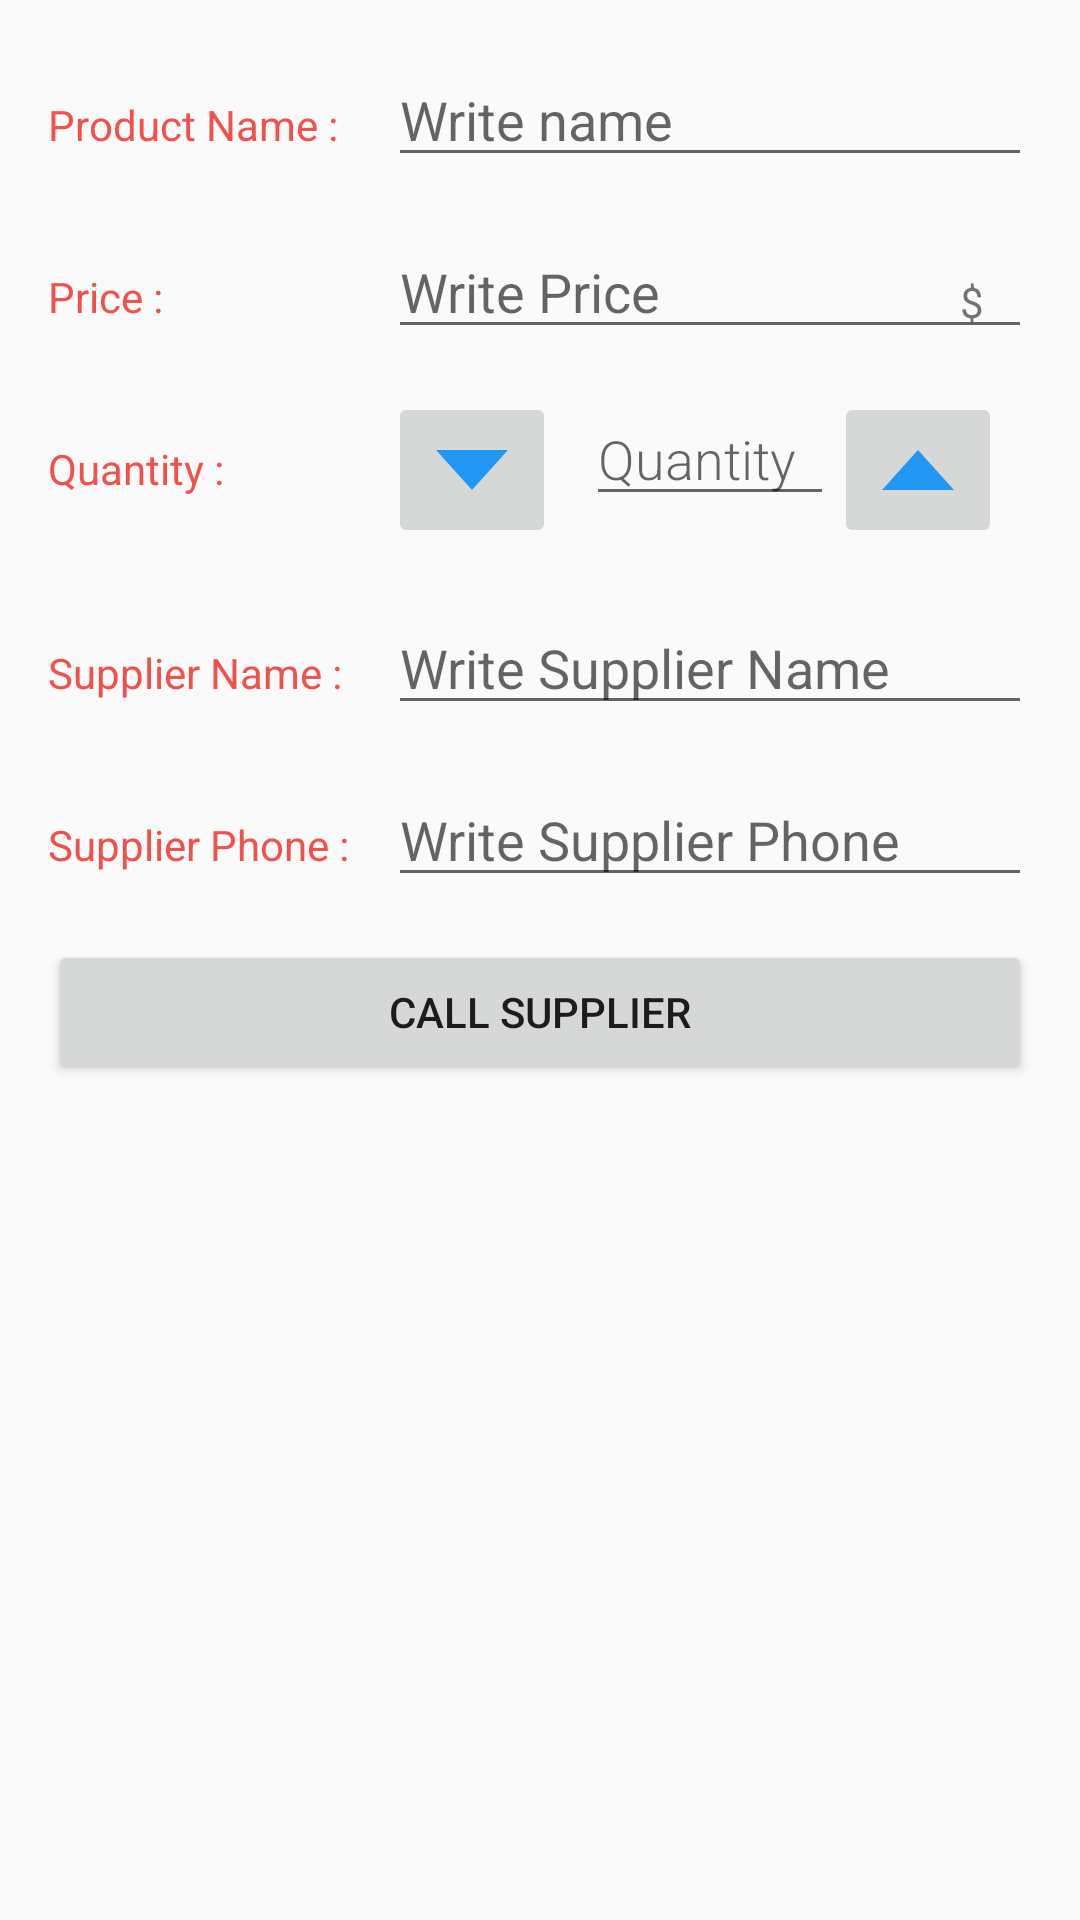

Icon bounding boxes for this 1080 × 1920 phone screenshot, format (x1, y1, x2, y2):
down: (400, 410, 544, 530)
